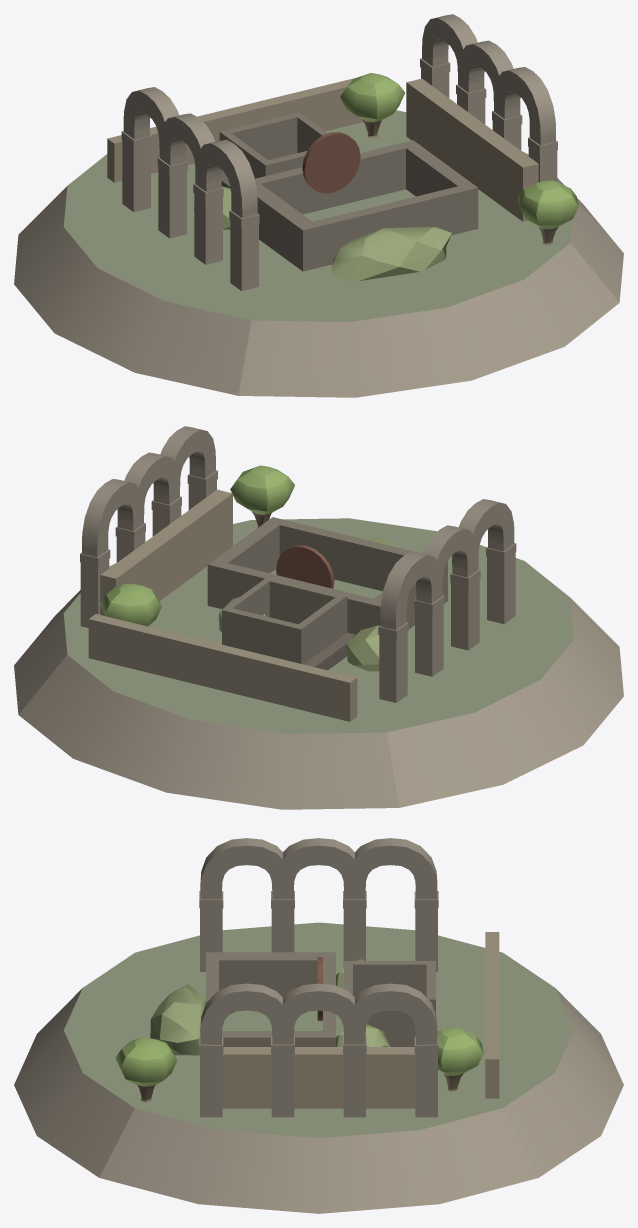
Rendered from noria.fbx.
3 views of the same model, one above another, from view 1: azimuth 30°, elevation 25°; view 2: azimuth 150°, elevation 25°; view 3: azimuth 270°, elevation 25° (orthographic).
Visible parts, largest first — view 1: arche6; view 2: arche6; view 3: arche6.
Boxes of the visible parts, x1=… form: arche6: x1=14, y1=14, x2=623, y2=397; arche6: x1=14, y1=426, x2=623, y2=809; arche6: x1=14, y1=838, x2=623, y2=1213.
Size of the model in its own units: 10.12 by 3.31 by 10.12.
